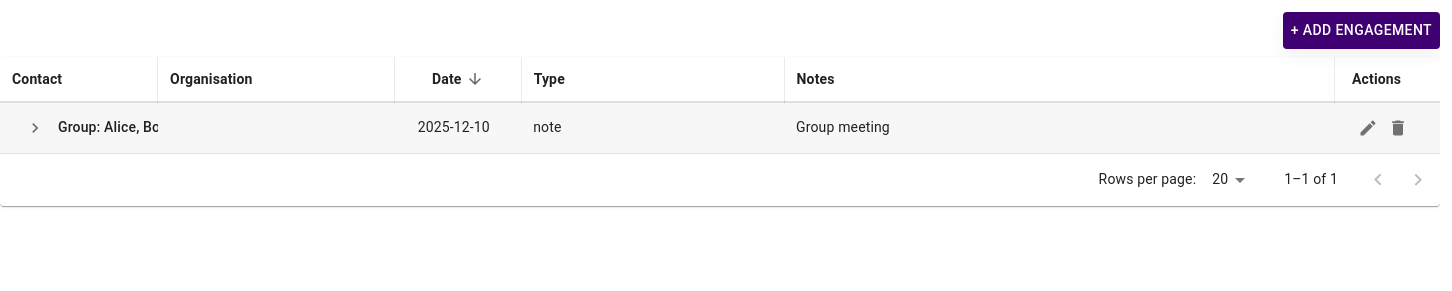
Test: EngagementsTable grouping › renders group row and expands to show children
expect the text "Group: Alice, Bob" is shown: met, box [58,118,158,138]
// Click the expand toggle on the group row (match any 'toggle group' label)
Step 1. Click the button named "toggle group" → {"x": 35, "y": 128}, box [20,112,50,142]
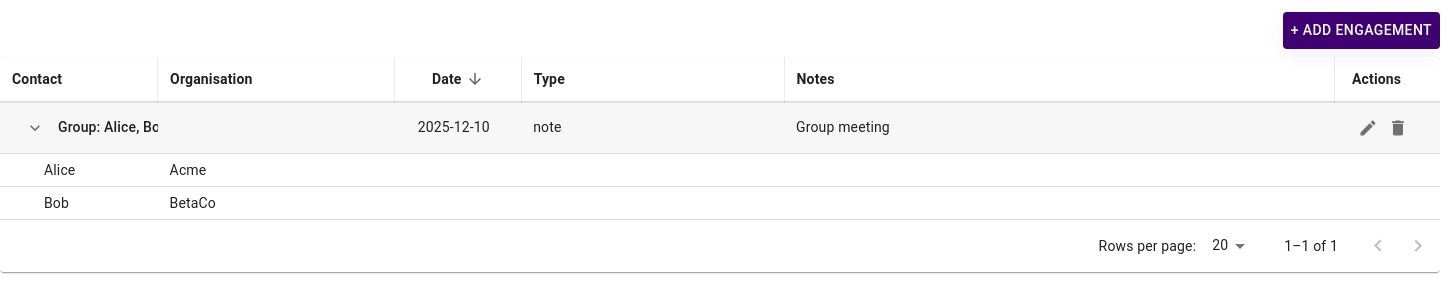
expect the text "Alice" is shown: met, box [44,162,76,178]
expect the text "Bob" is shown: met, box [44,194,69,210]
